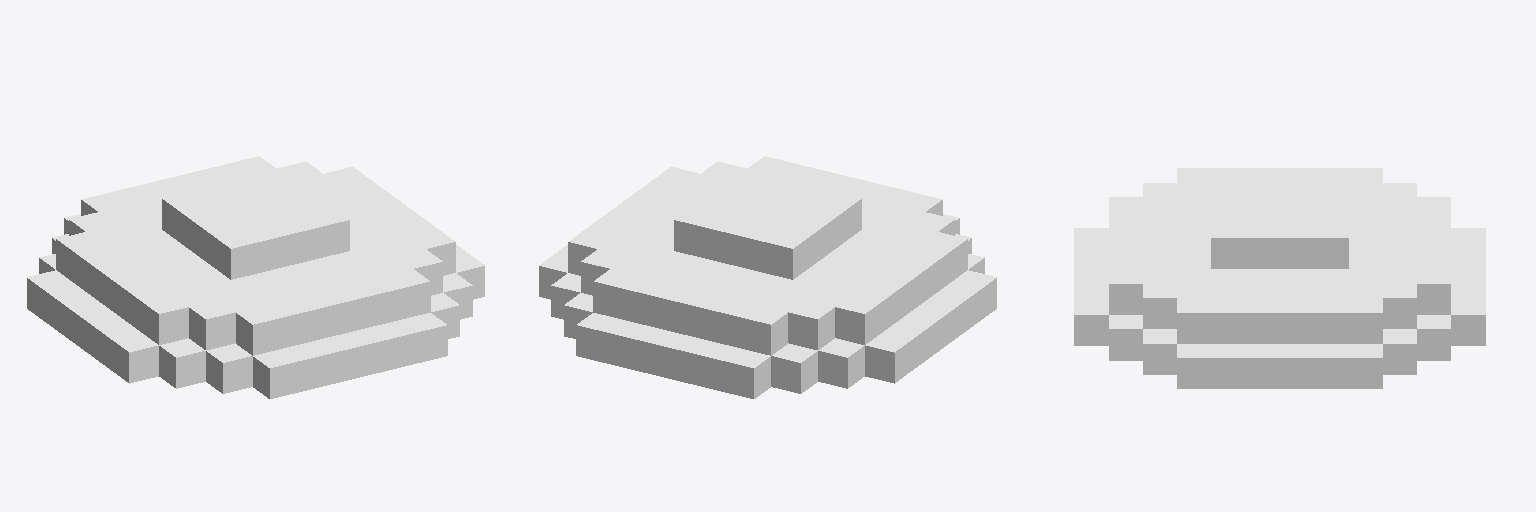
The model's file is buttonShape_record.obj.
3 views of the same model, side by side, from view 1: azimuth 30°, elevation 25°; view 2: azimuth 150°, elevation 25°; view 3: azimuth 270°, elevation 25° (orthographic).
Bounding box in the file's own units: 12 × 3 × 12.